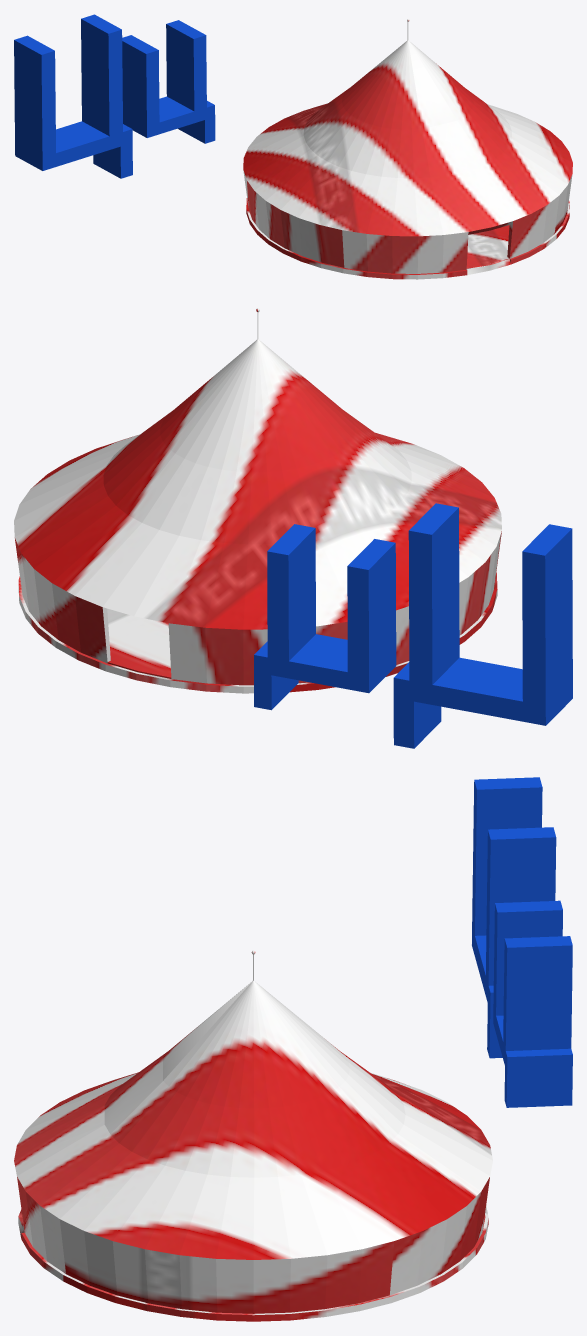
3 views of the same model, one above another, from view 1: azimuth 30°, elevation 25°; view 2: azimuth 150°, elevation 25°; view 3: azimuth 270°, elevation 25° (orthographic). The views are drawn at different scales.
Parts seen in each view (by area): view 1: Circus Tent, Mesh_0.028; view 2: Circus Tent, Mesh_0.028; view 3: Circus Tent, Mesh_0.028.
Part boxes in pixels (bbox=[...]): Circus Tent: bbox=[243, 19, 572, 279]; Mesh_0.028: bbox=[14, 14, 215, 178]; Circus Tent: bbox=[14, 308, 501, 693]; Mesh_0.028: bbox=[254, 503, 572, 748]; Circus Tent: bbox=[14, 950, 492, 1321]; Mesh_0.028: bbox=[472, 777, 572, 1107].
Size of the model in its own units: 39.72 by 16.63 by 30.81.
2 materials, 1 textured.
